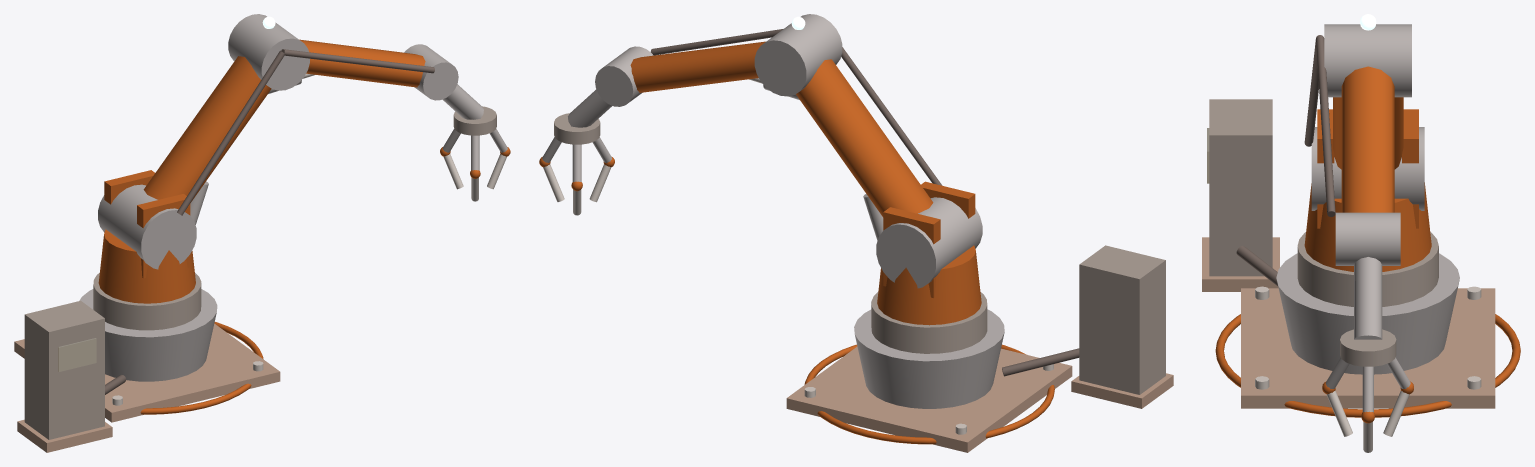
File: V16_loader_arm.glb
3 renders of one model, left to right at view 1: azimuth 30°, elevation 25°; view 2: azimuth 150°, elevation 25°; view 3: azimuth 270°, elevation 25°, orthographic. The views are drawn at different scales.
Parts seen in each view (by area): view 1: control_cabinet, base_plate, upper_arm, pedestal, shoulder_joint, turret, elbow_joint, forearm, slew_bearing, cable_loom (×2), shoulder_fork (×2), wrist_joint (+5 smaller); view 2: control_cabinet, base_plate, pedestal, upper_arm, shoulder_joint, turret, elbow_joint, forearm, slew_bearing, cable_loom (×2), shoulder_fork (×2), safety_ring (+5 smaller); view 3: base_plate, control_cabinet, pedestal, forearm, elbow_joint, slew_bearing, turret, wrist_joint, safety_ring, shoulder_joint, cable_loom (×2), wrist_link (+7 smaller).
Part boxes in pixels (x1,y1,x2,y2): control_cabinet: (24,300,104,439); base_plate: (14,323,280,422); upper_arm: (143,56,271,202); pedestal: (79,289,217,381); shoulder_joint: (98,184,196,269); turret: (98,229,195,303); elbow_joint: (228,14,309,90); forearm: (299,39,425,87); slew_bearing: (93,273,201,330); cable_loom (×2): (177,49,434,215); shoulder_fork (×2): (104,170,190,278); wrist_joint: (404,44,458,100); control_cabinet: (1079,245,1165,394); base_plate: (786,346,1072,452); pedestal: (854,309,1004,408); upper_arm: (796,59,933,217); shoulder_joint: (876,197,982,288); turret: (877,245,981,325); elbow_joint: (754,14,842,96); forearm: (630,41,765,92); slew_bearing: (871,292,987,353); cable_loom (×2): (650,29,942,185); shoulder_fork (×2): (883,181,975,297); safety_ring: (804,344,1054,444); base_plate: (1241,288,1495,408); control_cabinet: (1209,99,1272,276); pedestal: (1276,253,1459,374); forearm: (1341,66,1394,212); elbow_joint: (1324,24,1411,97); slew_bearing: (1297,232,1438,306); turret: (1304,182,1431,271); wrist_joint: (1335,212,1400,265); safety_ring: (1215,314,1520,417); shoulder_joint: (1311,127,1424,210); cable_loom (×2): (1304,35,1335,216); wrist_link: (1354,257,1382,339).
Bounding box in the file's own units: 5.62 × 3.26 × 2.26.
